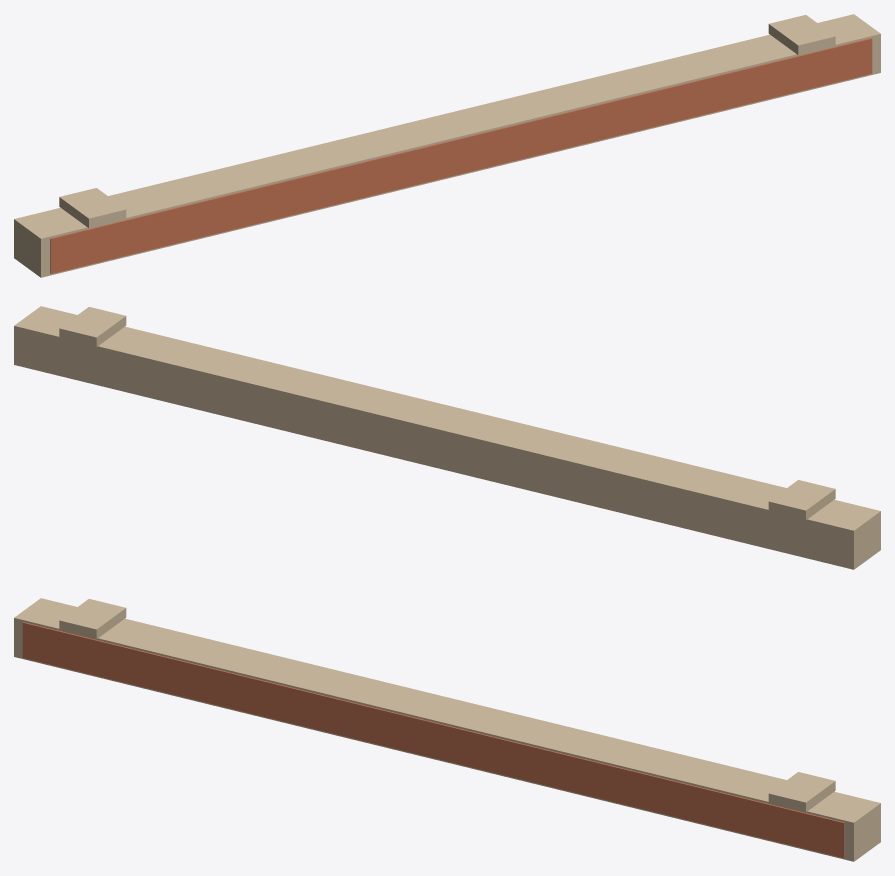
Rendered from prop-millstone-proof-staff.fbx.
3 views of the same model, one above another, from view 1: azimuth 30°, elevation 25°; view 2: azimuth 150°, elevation 25°; view 3: azimuth 330°, elevation 25° (orthographic).
Parts seen in each view (by area): view 1: prop-millstone-proof-staff; view 2: prop-millstone-proof-staff; view 3: prop-millstone-proof-staff.
Boxes of the visible parts, <box> form: prop-millstone-proof-staff: <box>14,14,880,277</box>; prop-millstone-proof-staff: <box>14,306,880,569</box>; prop-millstone-proof-staff: <box>14,598,880,861</box>.
Bounding box in the file's own units: 90 × 5 × 5.5.
